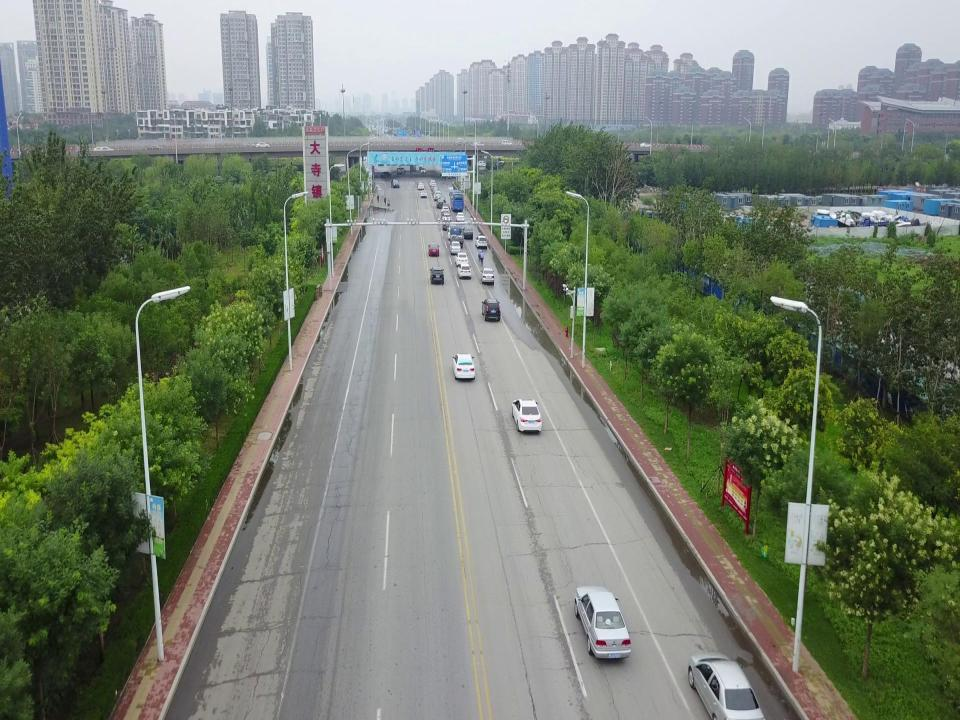bus: (448, 190, 464, 212)
car: (687, 650, 764, 720), (575, 586, 632, 659), (510, 396, 544, 434), (451, 353, 475, 382), (481, 297, 501, 322), (429, 266, 445, 285), (480, 267, 495, 284), (457, 262, 472, 278), (474, 234, 488, 249), (454, 252, 468, 265), (442, 216, 454, 231), (449, 241, 461, 255), (427, 243, 439, 256), (448, 227, 458, 241), (463, 227, 473, 239), (256, 142, 270, 150), (436, 198, 445, 209), (242, 142, 256, 149), (453, 141, 469, 147), (455, 212, 465, 221), (440, 210, 450, 219), (390, 179, 400, 188), (440, 172, 452, 179), (472, 142, 486, 148), (442, 206, 450, 215), (420, 189, 428, 198), (434, 191, 442, 200), (380, 172, 392, 178), (443, 213, 451, 221), (442, 202, 450, 210), (440, 196, 447, 205), (396, 167, 405, 174), (418, 183, 424, 190), (421, 167, 427, 174), (418, 165, 424, 170)
truck: (856, 215, 888, 232), (450, 226, 464, 248)
van: (500, 140, 512, 148), (476, 160, 486, 166), (410, 164, 417, 172)
